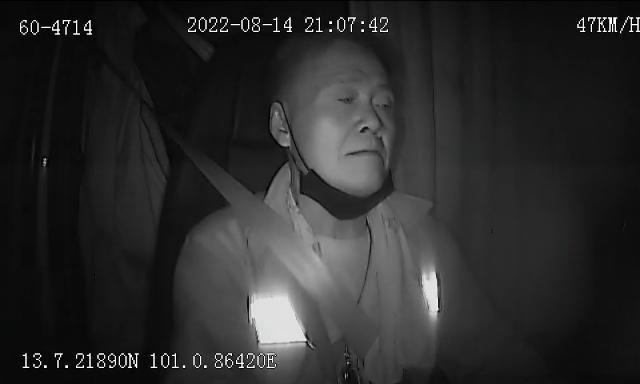Seatbelt: (179, 142, 379, 362)
